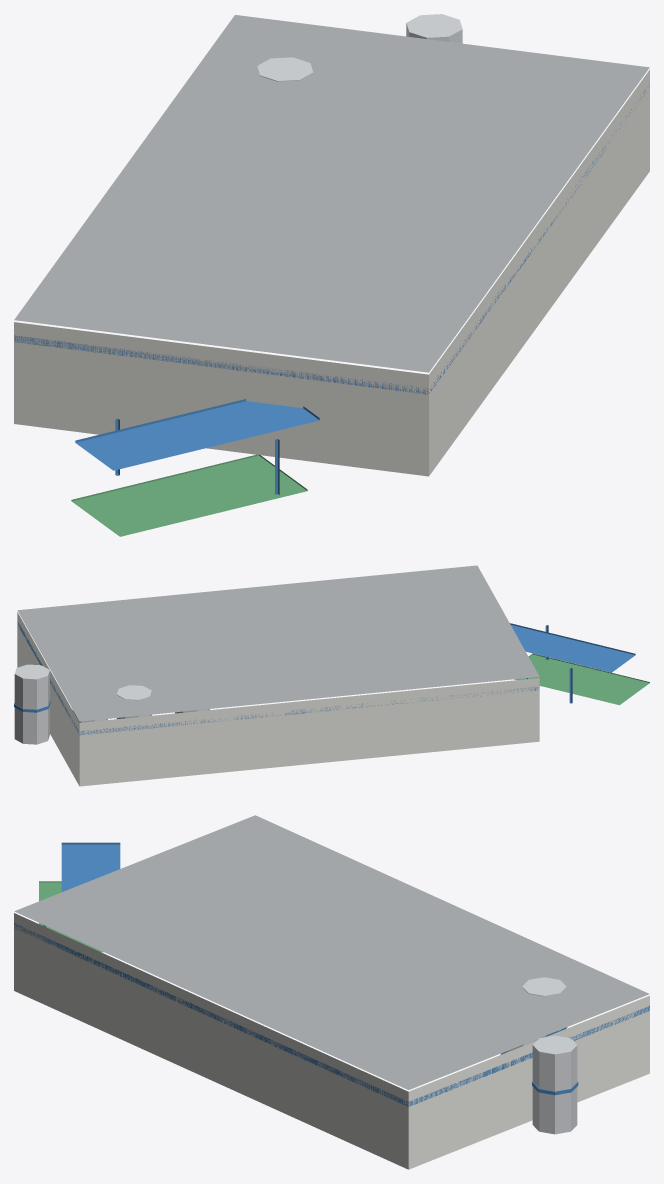
Rendered from balashi.glb.
The picture shows the model from 3 angles, top to bottom: view 1: azimuth 30°, elevation 25°; view 2: azimuth 150°, elevation 25°; view 3: azimuth 270°, elevation 25°; orthographic projection. The views are drawn at different scales.
Parts seen in each view (by area): view 1: balashi_lod0; view 2: balashi_lod0; view 3: balashi_lod0.
Part boxes in pixels (<box>): balashi_lod0: <box>14,14,649,536</box>; balashi_lod0: <box>14,565,649,786</box>; balashi_lod0: <box>14,815,649,1169</box>.
Size of what is drawn, in the model's own units: 64.12 by 8.4 by 59.8.
6 materials, 1 textured.
